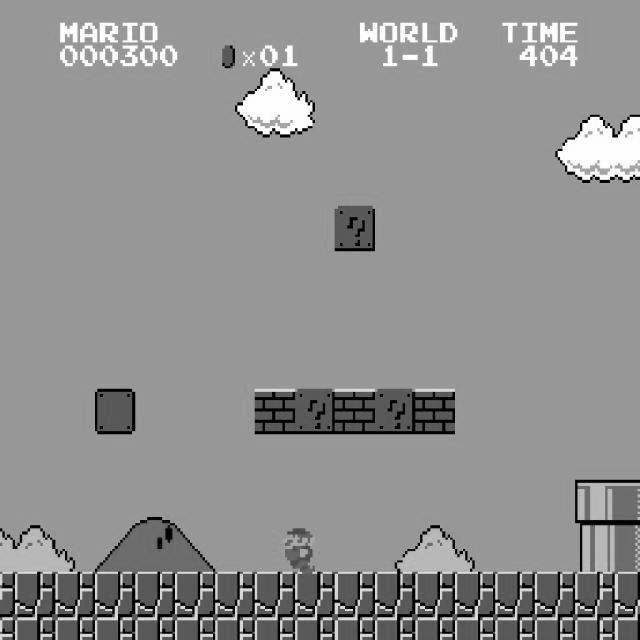1- brick_block: (254, 388, 296, 434), (334, 388, 376, 434), (414, 388, 456, 434)
11- little_mario: (275, 526, 318, 574)
13- mystery_block: (294, 388, 336, 434), (374, 388, 416, 434), (334, 206, 376, 251)
14- pipe: (574, 526, 616, 572), (614, 525, 640, 571)
15- pipe_head: (574, 480, 616, 526), (614, 480, 640, 525)
17- undestructible_block: (54, 572, 96, 618), (94, 572, 136, 618), (134, 572, 176, 618), (174, 572, 216, 618), (214, 572, 256, 618), (254, 572, 296, 618), (294, 572, 336, 618), (334, 572, 376, 618), (374, 572, 416, 618), (414, 572, 456, 618), (454, 572, 496, 618), (494, 572, 536, 618), (534, 572, 576, 618), (574, 572, 616, 618), (15, 572, 56, 618), (614, 571, 640, 617), (54, 617, 96, 640), (94, 617, 136, 640), (134, 617, 176, 640), (174, 617, 216, 640), (214, 617, 256, 640), (254, 617, 296, 640), (294, 617, 336, 640), (334, 617, 376, 640), (374, 617, 416, 640), (414, 617, 456, 640), (454, 617, 496, 640), (494, 617, 536, 640), (534, 617, 576, 640), (574, 617, 616, 640), (15, 617, 56, 640), (0, 572, 15, 618), (614, 617, 640, 639), (0, 617, 15, 640)
3- empty_block: (94, 388, 136, 434)
